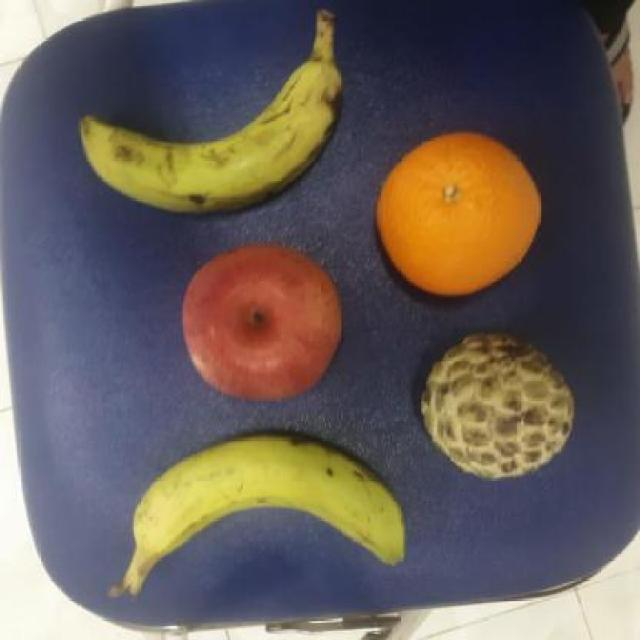apple: (181, 242, 342, 405)
banana: (78, 60, 353, 223), (126, 431, 409, 567)
oren: (372, 131, 543, 300)
sugar apple: (415, 326, 581, 482)
